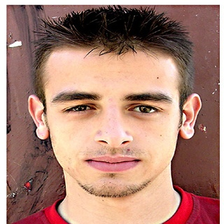no_mask: (48, 56, 180, 195)
